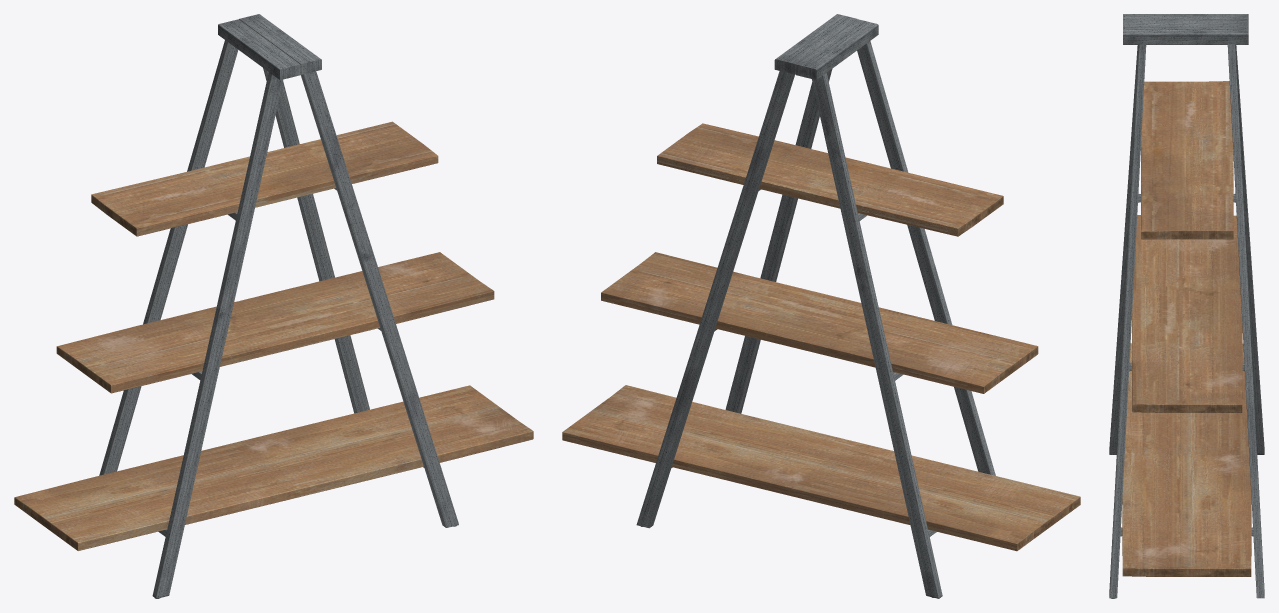
File: bryson_a_frame_bookcase.glb
The picture shows the model from 3 angles, left to right: view 1: azimuth 30°, elevation 25°; view 2: azimuth 150°, elevation 25°; view 3: azimuth 270°, elevation 25°; orthographic projection.
Visible parts, largest first — view 1: RootNode; view 2: RootNode; view 3: RootNode.
Part boxes in pixels (<box>): RootNode: <box>14,14,533,598</box>; RootNode: <box>562,14,1080,598</box>; RootNode: <box>1109,14,1264,598</box>.
Bounding box in the file's own units: 1.75 × 1.81 × 0.5081.
Materials: 1 (1 with a texture image).
